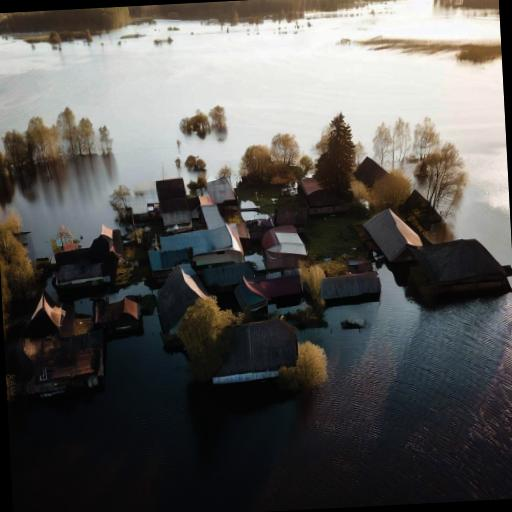flood: (0, 0, 512, 264), (8, 266, 512, 512)
house: (205, 318, 303, 391), (416, 234, 508, 302), (155, 261, 211, 340), (36, 340, 110, 398), (358, 204, 424, 264), (313, 254, 384, 306), (54, 242, 118, 293), (239, 264, 305, 311), (351, 152, 404, 205), (154, 176, 202, 231), (296, 174, 350, 216), (262, 226, 306, 268), (24, 289, 64, 334), (202, 262, 256, 292), (236, 202, 274, 242)
